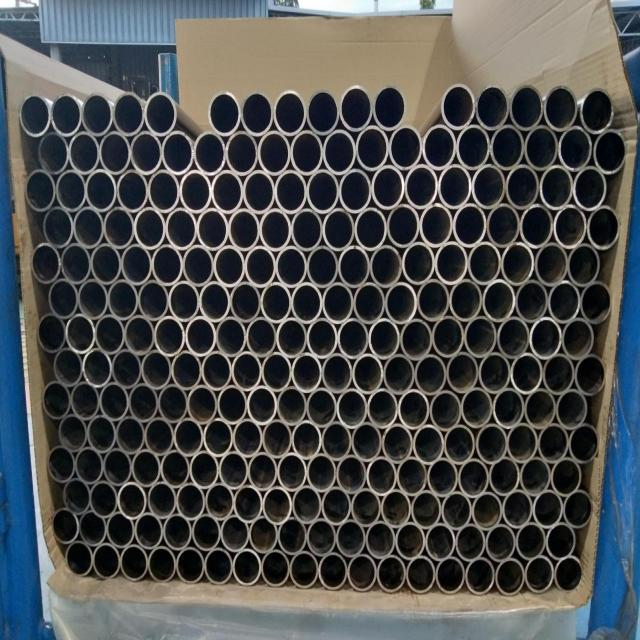pipe: (543, 83, 578, 132), (578, 87, 614, 134), (509, 83, 544, 131), (441, 83, 476, 130), (456, 123, 491, 170), (490, 124, 525, 171), (524, 124, 559, 171), (558, 125, 593, 172), (505, 164, 540, 211), (539, 164, 574, 211), (339, 85, 373, 133), (355, 124, 389, 172), (419, 203, 454, 249), (486, 203, 521, 249), (475, 84, 510, 130), (422, 124, 457, 170), (471, 164, 506, 210), (306, 88, 340, 135), (389, 124, 423, 171), (290, 129, 324, 176), (519, 204, 554, 249), (273, 90, 307, 136), (240, 90, 274, 136), (593, 128, 627, 174), (438, 163, 472, 209), (404, 164, 438, 210), (323, 128, 356, 175), (258, 129, 291, 176), (194, 129, 227, 176), (226, 129, 259, 176), (372, 164, 405, 211), (573, 165, 606, 212), (453, 203, 487, 248), (553, 204, 587, 249), (586, 205, 620, 250), (467, 241, 501, 286), (501, 242, 535, 287), (534, 242, 568, 287), (515, 279, 549, 324), (355, 206, 388, 252), (567, 242, 600, 288), (373, 84, 406, 130), (209, 90, 242, 136), (339, 167, 372, 213), (307, 168, 340, 214), (275, 169, 308, 215), (243, 169, 276, 215), (482, 279, 516, 323), (463, 315, 497, 359), (387, 203, 420, 248), (323, 207, 356, 252), (291, 207, 324, 252), (259, 207, 292, 252), (435, 241, 468, 286), (402, 241, 435, 286), (370, 244, 403, 289), (338, 244, 371, 289), (417, 278, 450, 323), (112, 92, 145, 137), (130, 130, 163, 175), (162, 130, 195, 175), (116, 168, 149, 213), (148, 169, 181, 214), (180, 169, 213, 214), (38, 130, 70, 176), (212, 169, 244, 215), (496, 316, 530, 359), (196, 207, 229, 251), (306, 245, 339, 289), (450, 279, 483, 323), (548, 280, 581, 324), (432, 316, 465, 360), (529, 317, 562, 361), (50, 92, 83, 136), (562, 317, 594, 362), (81, 92, 113, 137), (68, 130, 100, 175), (99, 130, 131, 175), (182, 244, 215, 287), (400, 318, 433, 361), (446, 352, 479, 395), (478, 352, 511, 395), (510, 352, 543, 395), (542, 353, 575, 396), (414, 353, 447, 396), (574, 354, 607, 397), (461, 387, 494, 430), (524, 387, 557, 430), (144, 93, 177, 136), (134, 207, 166, 251), (228, 208, 260, 252), (245, 245, 277, 289), (275, 245, 307, 289), (580, 281, 612, 325), (385, 281, 417, 325), (85, 169, 117, 213), (429, 389, 462, 431), (475, 423, 508, 465), (165, 207, 197, 250), (138, 279, 170, 322), (199, 280, 231, 323), (230, 281, 262, 324), (291, 281, 323, 324), (322, 282, 354, 325), (354, 282, 386, 325), (369, 318, 401, 361), (321, 352, 353, 395), (352, 353, 384, 396), (383, 353, 415, 396), (492, 387, 524, 430), (56, 168, 87, 212), (537, 423, 570, 464), (154, 316, 186, 358), (185, 316, 217, 358), (306, 318, 338, 360), (337, 318, 369, 360), (367, 388, 399, 430), (555, 388, 587, 430), (398, 389, 430, 431), (19, 94, 51, 136), (73, 206, 104, 249), (104, 206, 135, 249), (61, 242, 92, 285), (91, 243, 122, 286), (121, 243, 152, 286), (152, 244, 183, 287), (214, 245, 245, 288), (78, 278, 109, 321), (108, 279, 139, 322), (169, 280, 200, 323), (261, 281, 292, 324), (25, 169, 56, 212), (44, 205, 74, 249), (336, 388, 368, 429), (381, 423, 413, 464), (413, 424, 445, 465), (443, 424, 475, 465), (488, 456, 520, 497), (458, 457, 490, 498), (464, 556, 496, 597), (124, 315, 155, 357), (216, 316, 247, 358), (246, 317, 277, 359), (277, 317, 308, 359), (232, 350, 263, 392), (292, 352, 323, 394), (507, 422, 538, 464), (396, 457, 428, 497), (519, 457, 551, 497), (427, 457, 459, 497), (441, 490, 473, 530), (31, 243, 62, 284), (65, 313, 96, 354), (111, 349, 142, 390), (141, 350, 172, 391), (172, 350, 203, 391), (261, 352, 292, 393), (158, 383, 189, 424), (187, 384, 218, 425), (247, 385, 278, 426), (306, 387, 337, 428), (262, 418, 293, 459), (321, 421, 352, 462), (351, 421, 382, 462), (569, 423, 600, 464), (336, 454, 367, 495), (502, 489, 533, 530), (485, 522, 516, 563), (276, 386, 307, 426), (291, 420, 322, 460), (131, 448, 162, 488), (277, 452, 308, 492), (306, 453, 337, 493), (366, 456, 397, 496), (551, 457, 582, 497), (533, 489, 564, 529), (472, 490, 503, 530), (365, 520, 396, 560), (455, 523, 486, 563), (95, 314, 125, 355), (202, 351, 232, 392), (99, 381, 129, 422), (128, 382, 158, 423), (248, 451, 278, 492), (516, 521, 546, 562), (495, 556, 525, 597), (292, 485, 323, 524), (381, 489, 412, 528), (82, 348, 112, 388), (70, 381, 100, 421), (217, 385, 247, 425), (115, 415, 145, 455), (144, 416, 174, 456), (174, 417, 204, 457), (203, 417, 233, 457), (233, 418, 263, 458), (219, 450, 249, 490), (321, 486, 351, 526), (411, 489, 441, 529), (277, 516, 307, 556), (306, 518, 336, 558), (336, 519, 366, 559), (395, 521, 425, 561), (546, 521, 576, 561), (425, 522, 455, 562), (376, 554, 406, 594), (406, 554, 436, 594), (525, 554, 555, 594), (50, 278, 79, 319), (43, 380, 72, 421), (103, 446, 132, 487), (160, 450, 190, 489), (189, 450, 219, 489), (117, 481, 147, 520), (147, 481, 177, 520), (262, 485, 292, 524), (351, 488, 381, 527), (563, 490, 593, 529), (289, 550, 319, 589), (435, 555, 465, 594), (38, 314, 67, 354), (54, 347, 83, 387), (163, 512, 192, 552), (192, 513, 221, 553), (319, 551, 348, 591), (348, 552, 377, 592), (176, 482, 206, 520), (59, 414, 88, 453), (87, 415, 116, 454), (75, 446, 104, 485), (90, 479, 119, 518), (234, 484, 263, 523), (134, 512, 163, 551), (220, 515, 249, 554), (249, 516, 278, 555), (148, 544, 177, 583), (176, 546, 205, 585), (204, 546, 233, 585), (261, 548, 290, 587), (555, 554, 584, 593), (205, 482, 234, 520), (106, 511, 135, 549), (233, 548, 262, 586), (78, 509, 106, 548), (65, 539, 93, 578), (92, 541, 120, 580), (48, 445, 76, 483), (120, 543, 148, 581), (64, 477, 91, 515), (52, 507, 79, 545)
